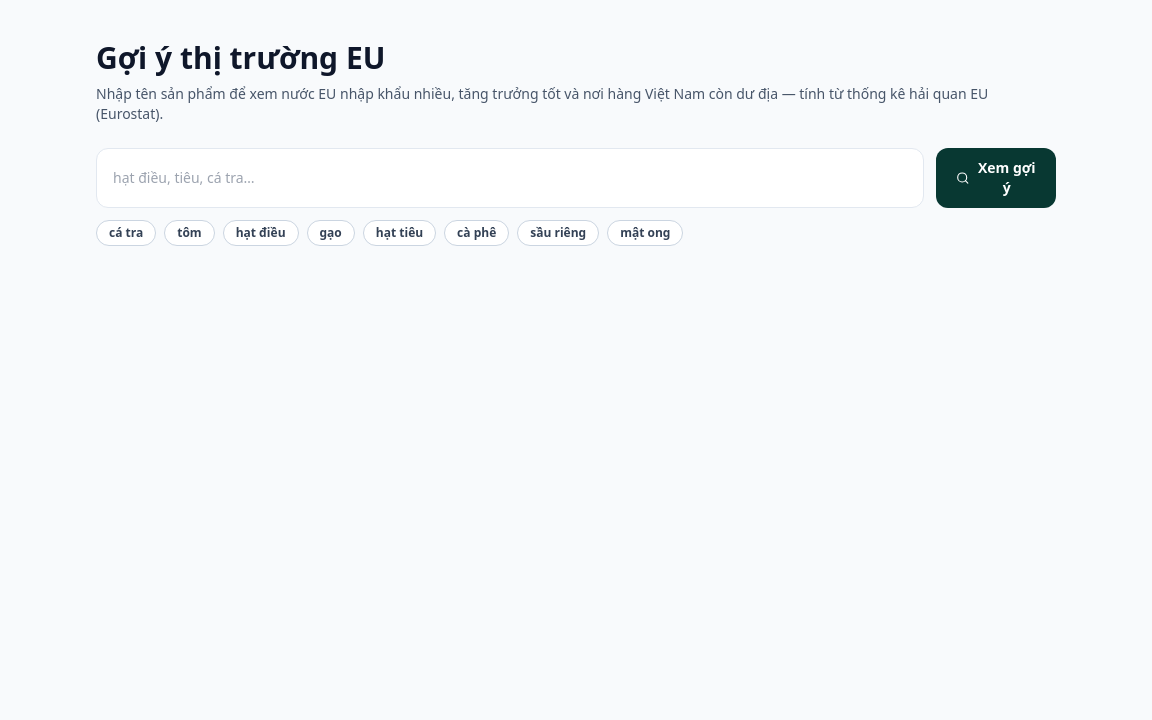
Test: Trang gợi ý thị trường có biểu đồ › có biểu đồ quy mô, thị phần, đơn giá, so sánh và HHI; bảng số liệu gốc vẫn còn trong mục thu gọn
Click the button "cá tra" at [126, 233], box [96, 220, 156, 246]
(page scrolled)
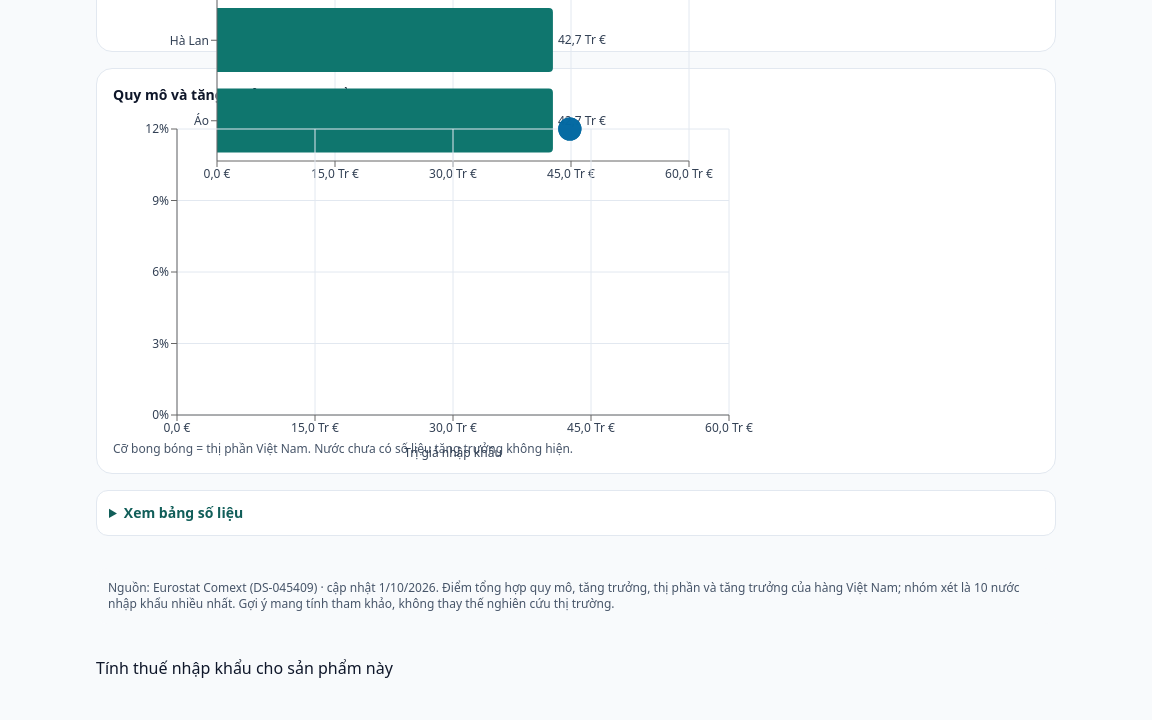
Expected: the text "Xem bảng số liệu" is shown 2 times
Expected: the text with test id "market-method" shows "Eurostat Comext", [153, 579, 317, 596]
Expected: the text with test id "market-method" shows "không thay thế nghiên cứu thị trường", [108, 579, 1020, 612]
